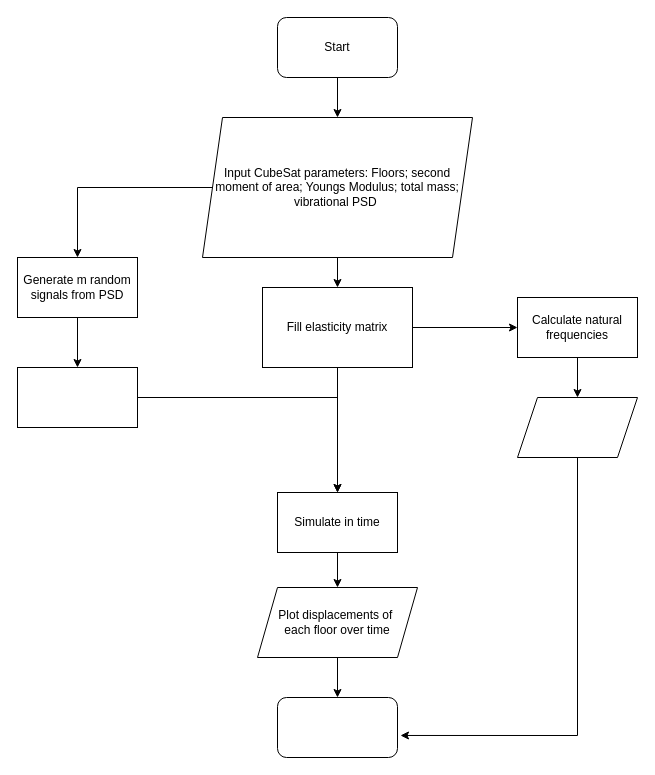
This 655x775 diagram has some shape labels left out. The centre of each missing label's shape, as x and y in pixels:
"End" goes at [337,727].
"Generate acceleration of base floor as a function of time" goes at [77,397].
"Output Natural Frequencies" goes at [577,427].
